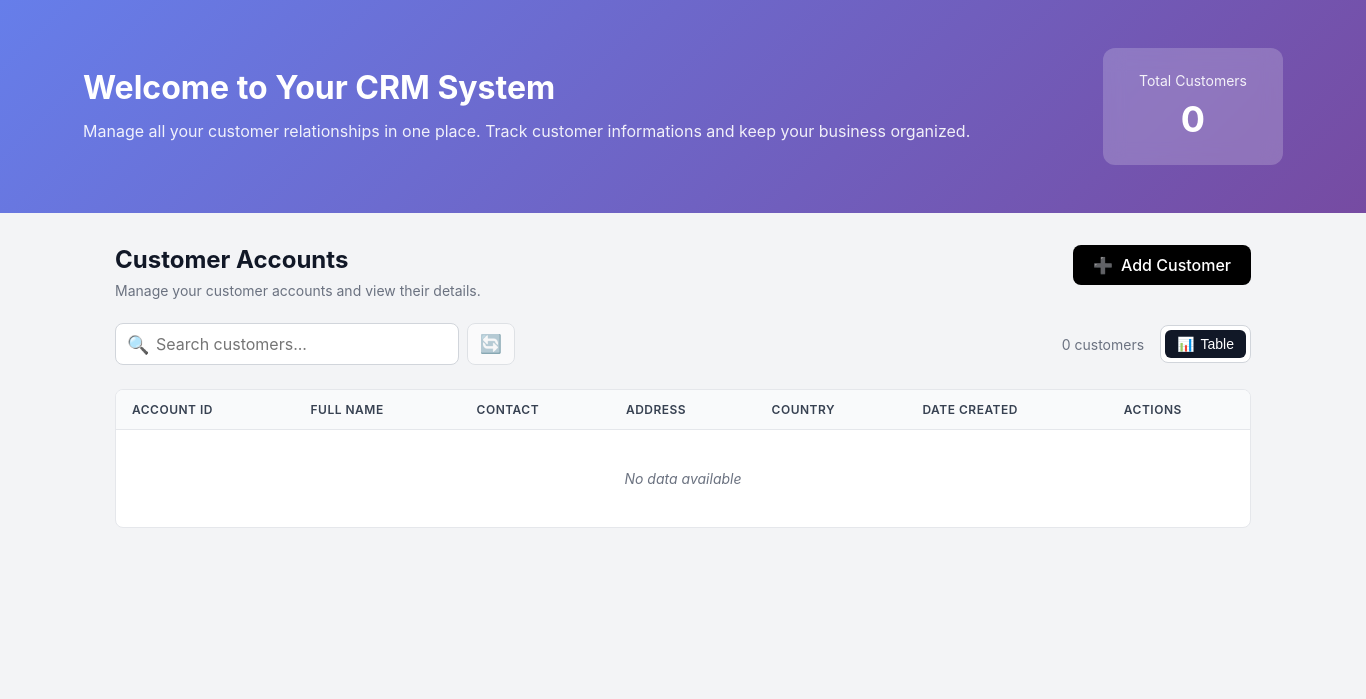
Test: CustomerAccounts Page › opens add customer modal when button is clicked
Click the button "➕ Add Customer".
click(1162, 265)  # box left=1073, top=245, right=1251, bottom=285
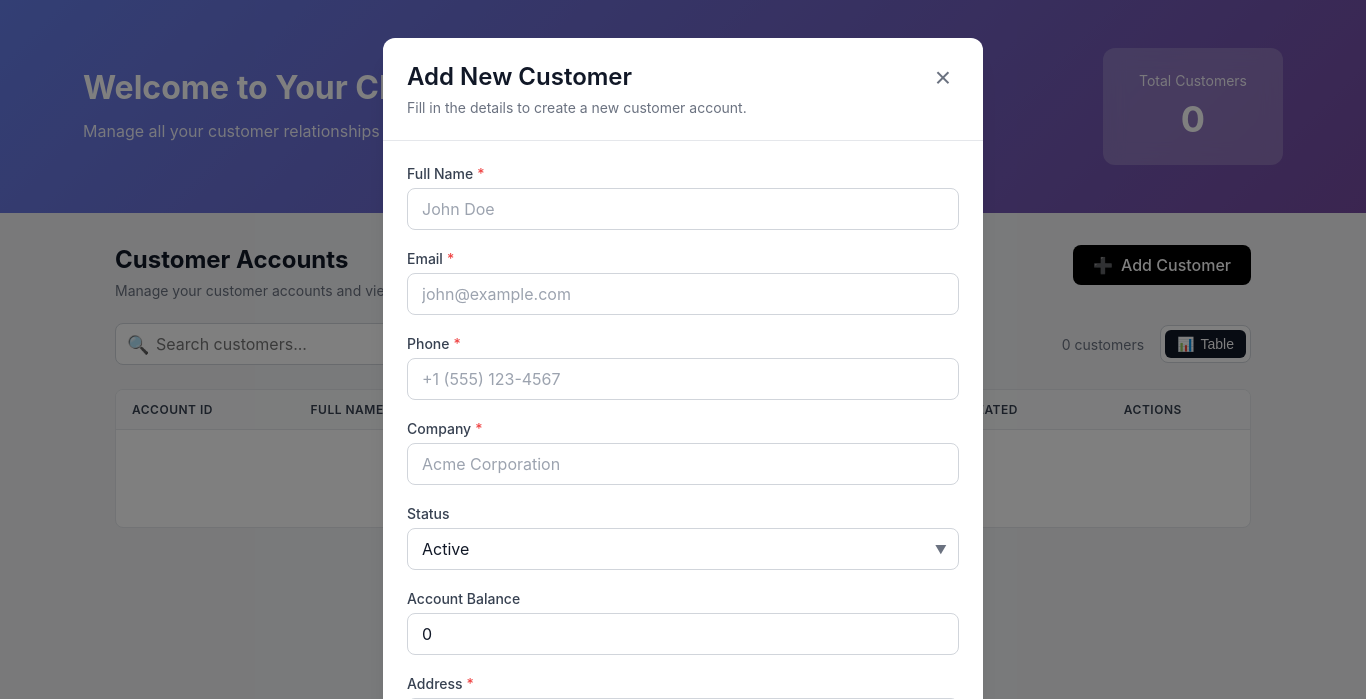
Expected: the heading "Add New Customer" is shown, left=407, top=62, right=632, bottom=91
